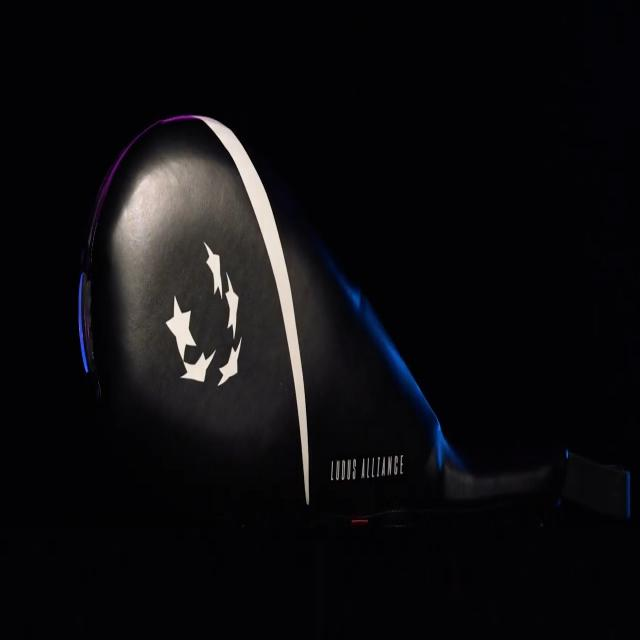paddle: (74, 107, 564, 536)
